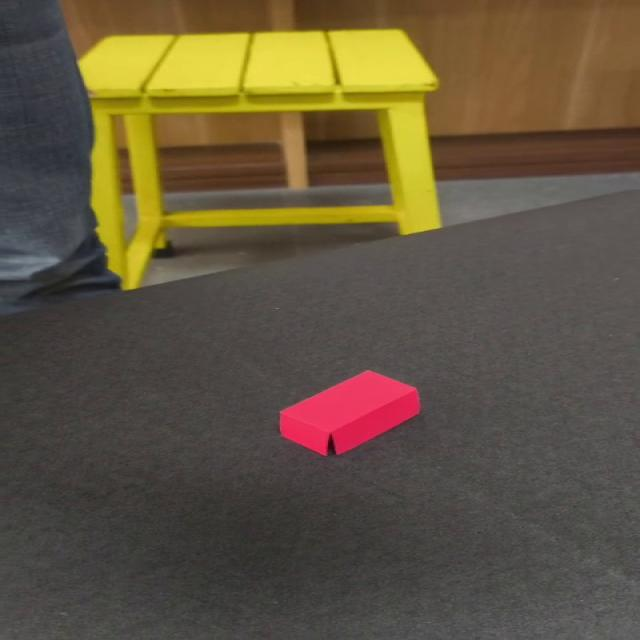red block: (278, 369, 422, 456)
